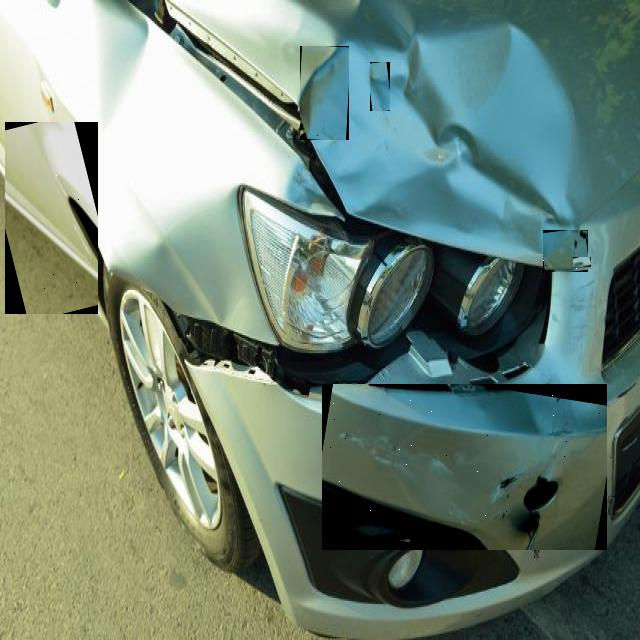Dent: (322, 384, 607, 550), (5, 122, 98, 314), (300, 46, 349, 140), (336, 443, 407, 482), (543, 230, 588, 272), (496, 458, 521, 500), (370, 62, 390, 111), (573, 257, 591, 267), (608, 496, 615, 515), (534, 542, 539, 558), (583, 230, 588, 239), (576, 240, 580, 248)
